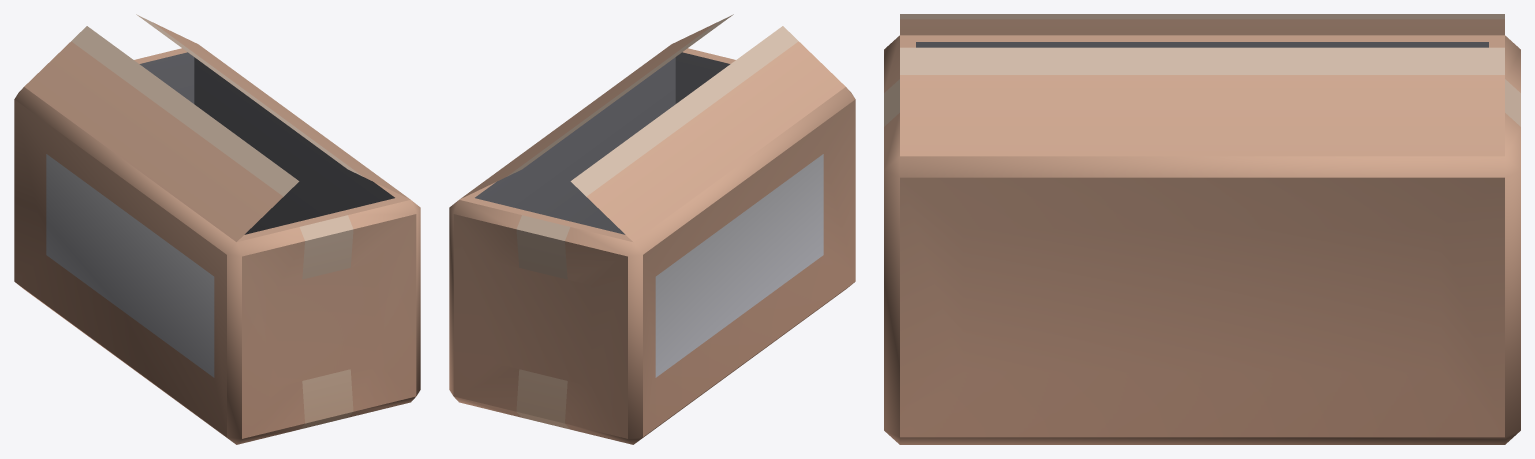
The model's file is box-large-open.glb.
3 views of the same model, side by side, from view 1: azimuth 30°, elevation 25°; view 2: azimuth 150°, elevation 25°; view 3: azimuth 270°, elevation 25° (orthographic). The views are drawn at different scales.
Visible parts, largest first — view 1: box-large-open; view 2: box-large-open; view 3: box-large-open.
Boxes of the visible parts, x1,y1,x2,y2 form: box-large-open: (14,14,420,444); box-large-open: (449,14,855,444); box-large-open: (884,14,1520,444).
Bounding box in the file's own units: 0.25 × 0.3063 × 0.5.
